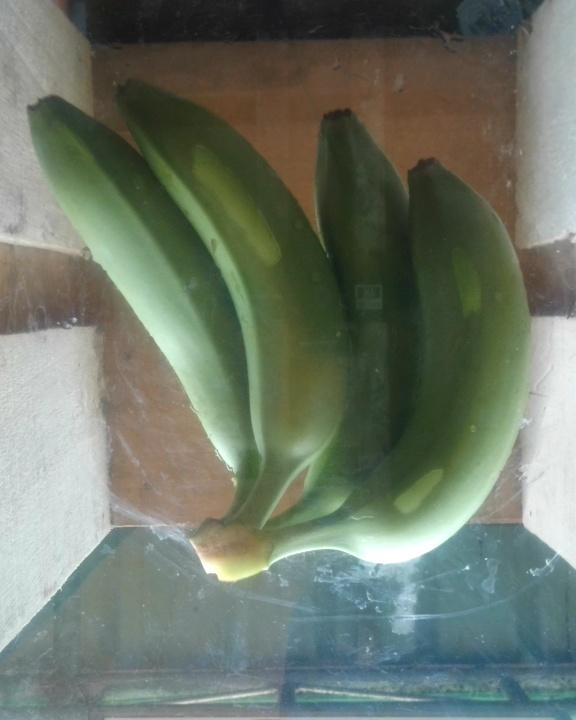SPOT: (16, 68, 543, 571)
